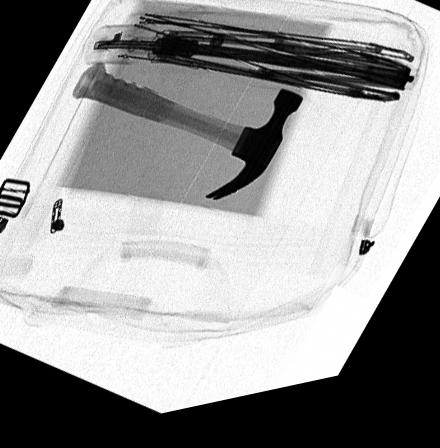Hammer: (70, 64, 304, 210)
